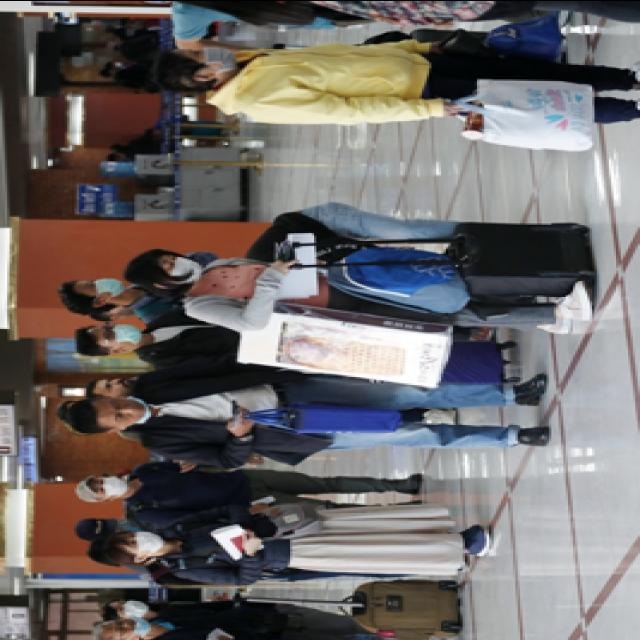mask_weared_incorrect: (101, 397, 153, 424), (108, 618, 154, 638)
with_mask: (180, 43, 240, 69), (92, 322, 144, 348), (156, 253, 204, 280), (92, 472, 132, 498), (120, 530, 163, 552), (79, 277, 125, 296), (112, 598, 148, 620)
without_mask: (96, 374, 134, 396)
